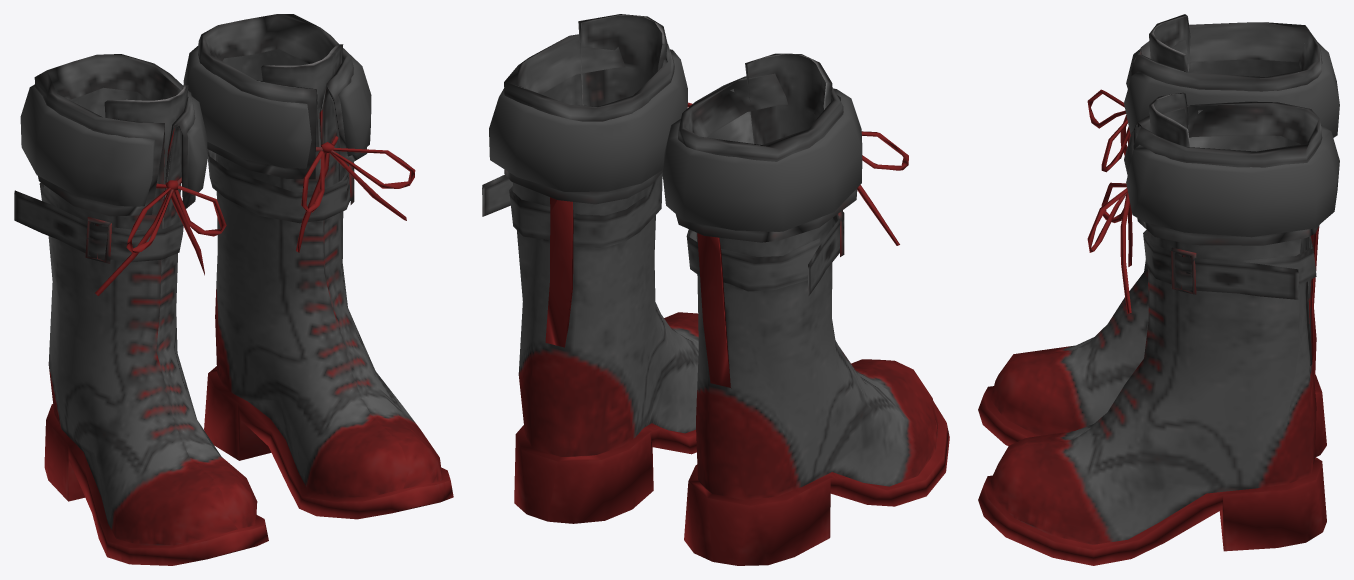
Rendered from WorkUniformBoots_Ground.fbx.
3 renders of one model, left to right at view 1: azimuth 30°, elevation 25°; view 2: azimuth 150°, elevation 25°; view 3: azimuth 270°, elevation 25°, orthographic. The views are drawn at different scales.
Parts seen in each view (by area): view 1: WorkUniformBoots; view 2: WorkUniformBoots; view 3: WorkUniformBoots.
Boxes of the visible parts, box(x1,y1,x2,y2) form: WorkUniformBoots: box(14, 14, 453, 565); WorkUniformBoots: box(482, 14, 949, 565); WorkUniformBoots: box(978, 14, 1339, 565).
Size of the model in its own units: 0.1498 by 0.1827 by 0.1436.
